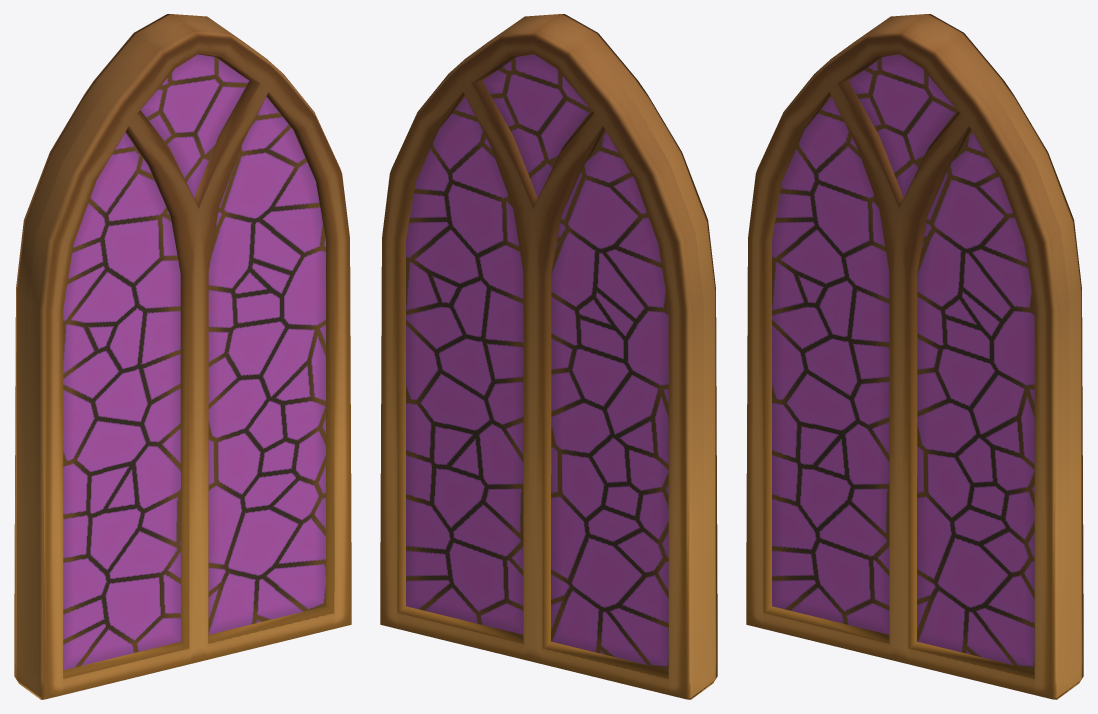
Rendered from SM_elfe_window.fbx.
3 views of the same model, side by side, from view 1: azimuth 30°, elevation 25°; view 2: azimuth 150°, elevation 25°; view 3: azimuth 330°, elevation 25° (orthographic).
Visible parts, largest first — view 1: SM_elfe_window; view 2: SM_elfe_window; view 3: SM_elfe_window.
Part boxes in pixels (x1,y1,x2,y2): SM_elfe_window: (14,14,351,699); SM_elfe_window: (380,14,717,699); SM_elfe_window: (746,14,1083,699).
Size of the model in its own units: 9.08 by 17.73 by 1.61.
